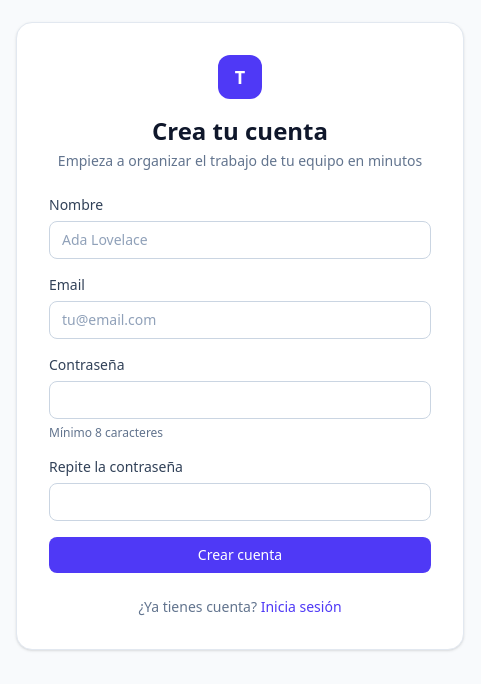
RegisterPage › detecta contraseñas distintas
Type "Ana" into the field labelled "Nombre" at (240, 240), box [49,221,431,259]
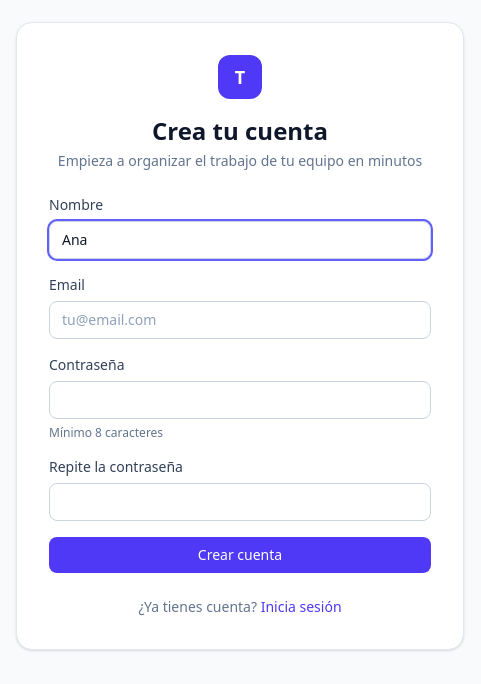
Type "ana@ejemplo.com" into the field labelled "Email" at (240, 320), box [49,301,431,339]
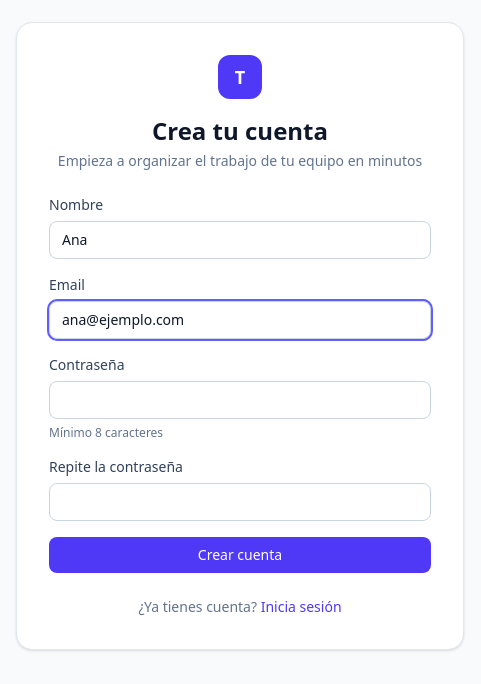
Type "secreta123" into the password field labelled "Contraseña" at (240, 400), box [49,381,431,419]
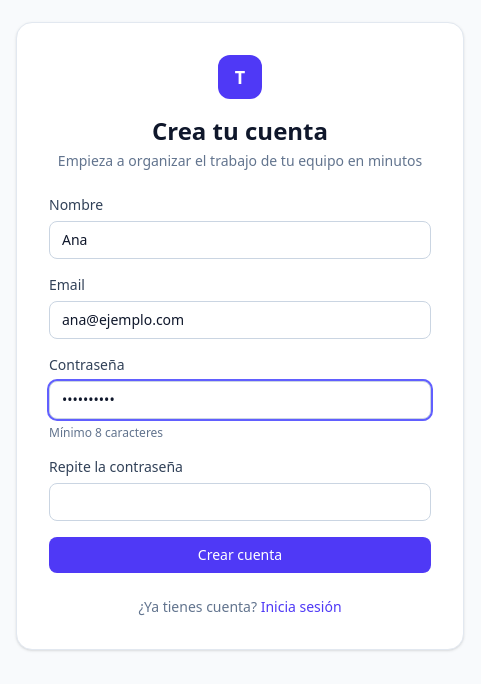
Type "distinta123" into the password field labelled "Repite la contraseña" at (240, 502), box [49,483,431,521]
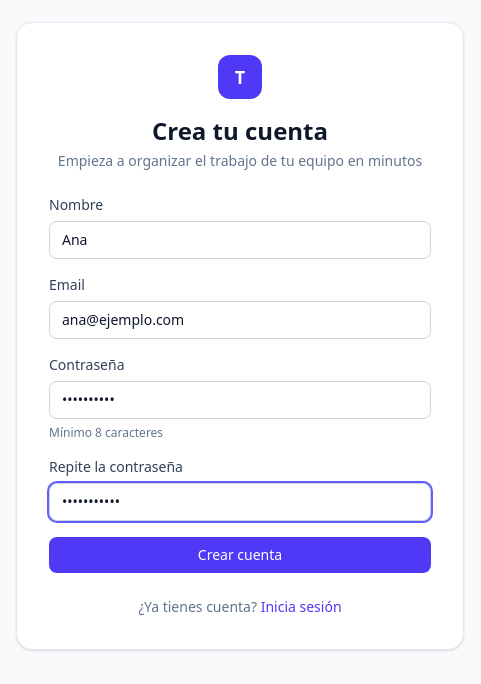
Click the button "Crear cuenta" at (240, 555), box [49,537,431,573]
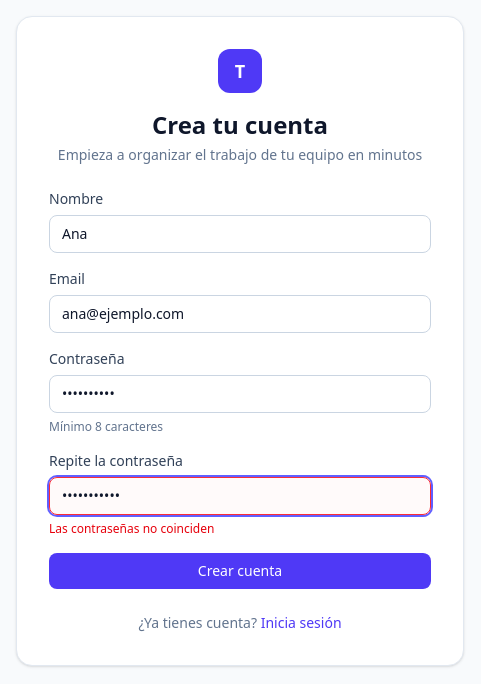
Result: the text "Las contraseñas no coinciden" is shown at [49,520,214,537]
